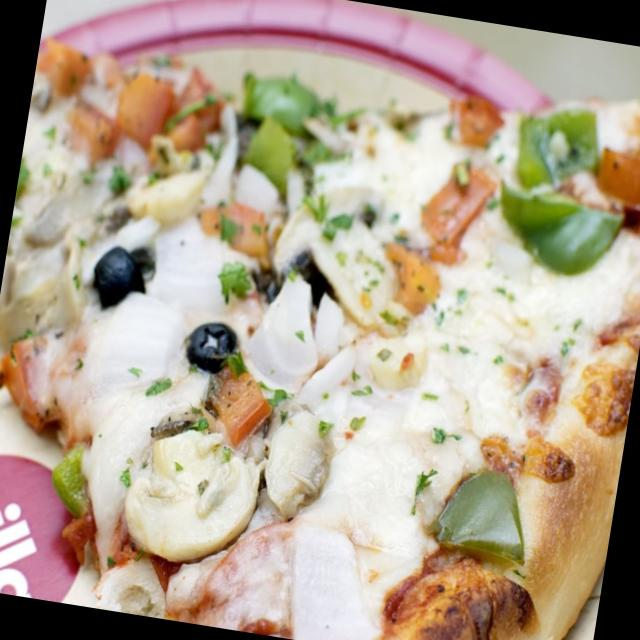black_olives: (90, 245, 148, 314), (183, 312, 243, 376)
mushrooms: (118, 402, 272, 582), (268, 172, 426, 332), (256, 402, 340, 521)
peppers: (433, 448, 549, 584), (492, 175, 621, 274), (508, 100, 608, 187), (44, 439, 114, 556), (0, 323, 83, 420), (428, 158, 492, 244), (206, 366, 274, 441), (202, 192, 278, 258), (243, 120, 310, 182), (591, 138, 640, 203)
pizza: (0, 40, 640, 640)
